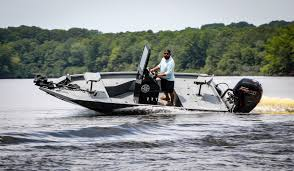boat: (32, 45, 263, 117)
